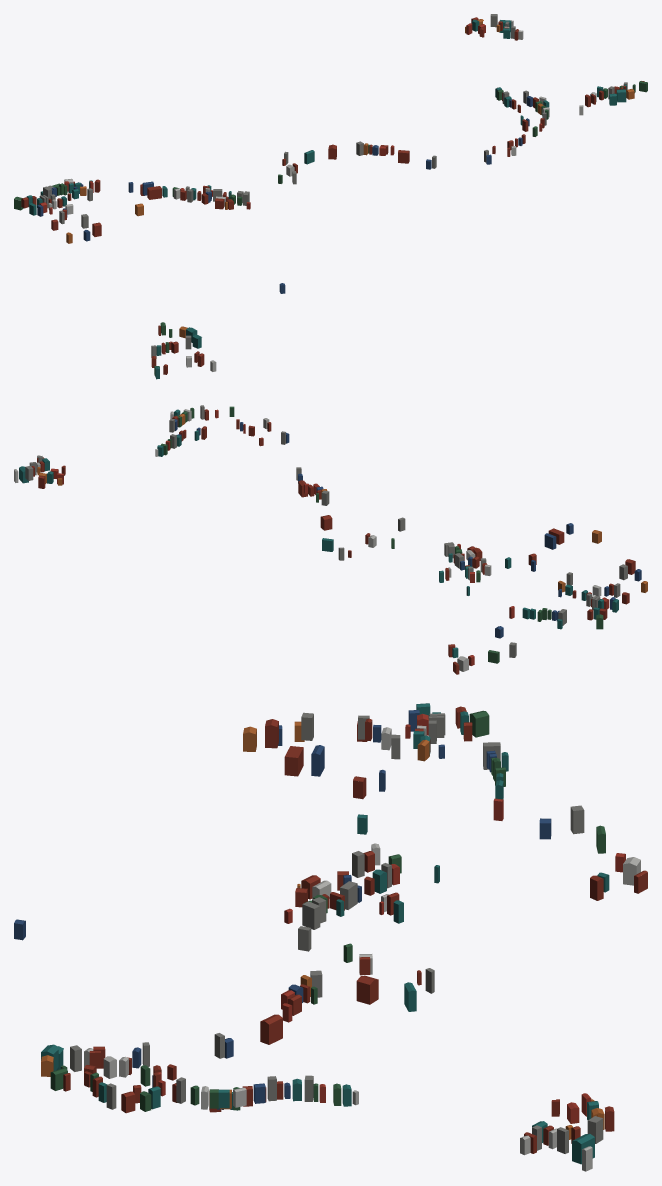
The model's file is near-15-27354-14871.4c35c1f9.glb.
The picture shows the model from 3 angles, top to bottom: view 1: azimuth 30°, elevation 25°; view 2: azimuth 150°, elevation 25°; view 3: azimuth 270°, elevation 25°; orthographic projection. The views are drawn at different scales.
Bounding box in the file's own units: 1168 × 243 × 625.
